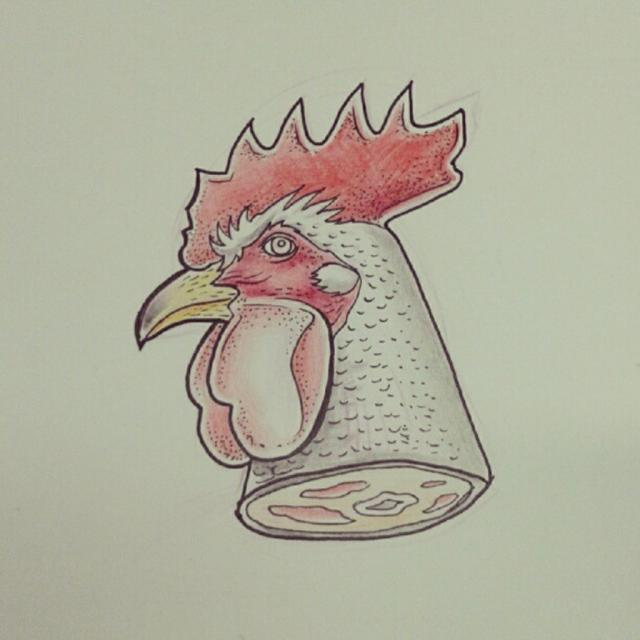Chicken: (135, 74, 496, 542)
